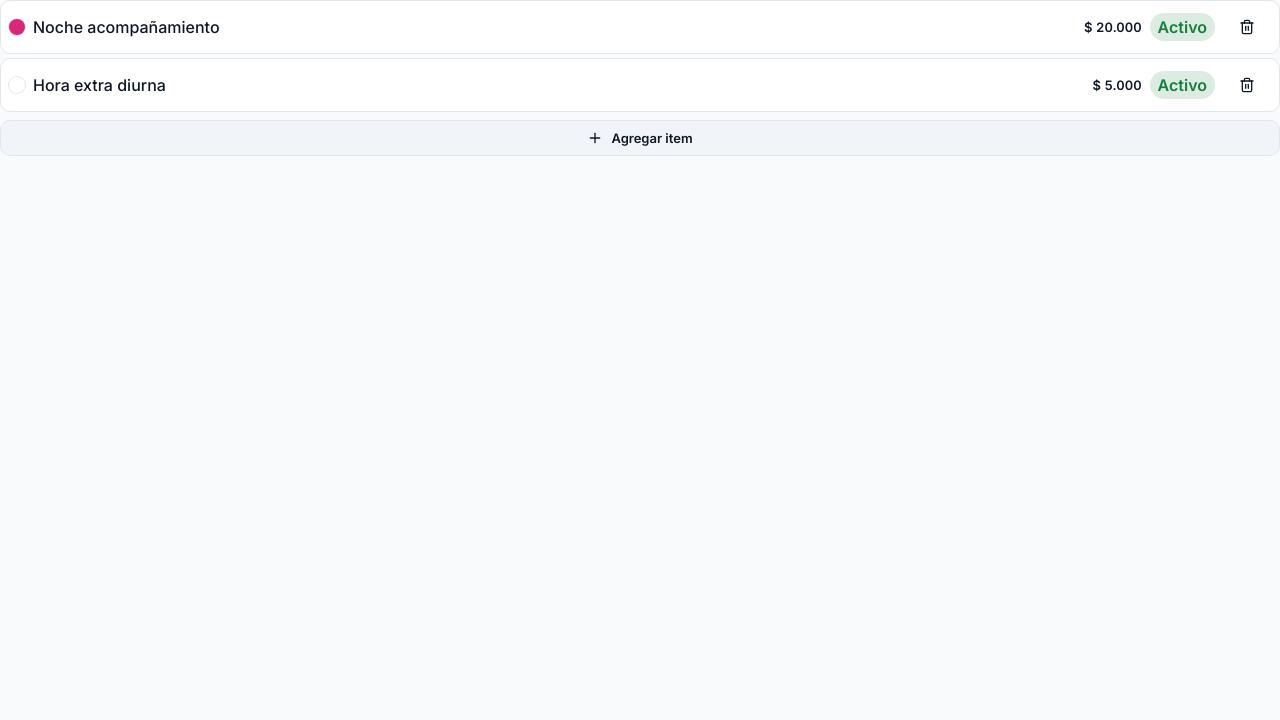
Scenario: ItemsAdicionalesSection (Spec items-adicionales) › AC-4/AC-7: crear un item invoca crearItemAdicional (POST) y refresca la lista
This screenshot has width=1280, height=720.
Expected: the button "Noche acompañamiento" is shown, [33, 15, 1076, 39]
Click the button "Agregar item": (640,138) [0, 120, 1279, 156]
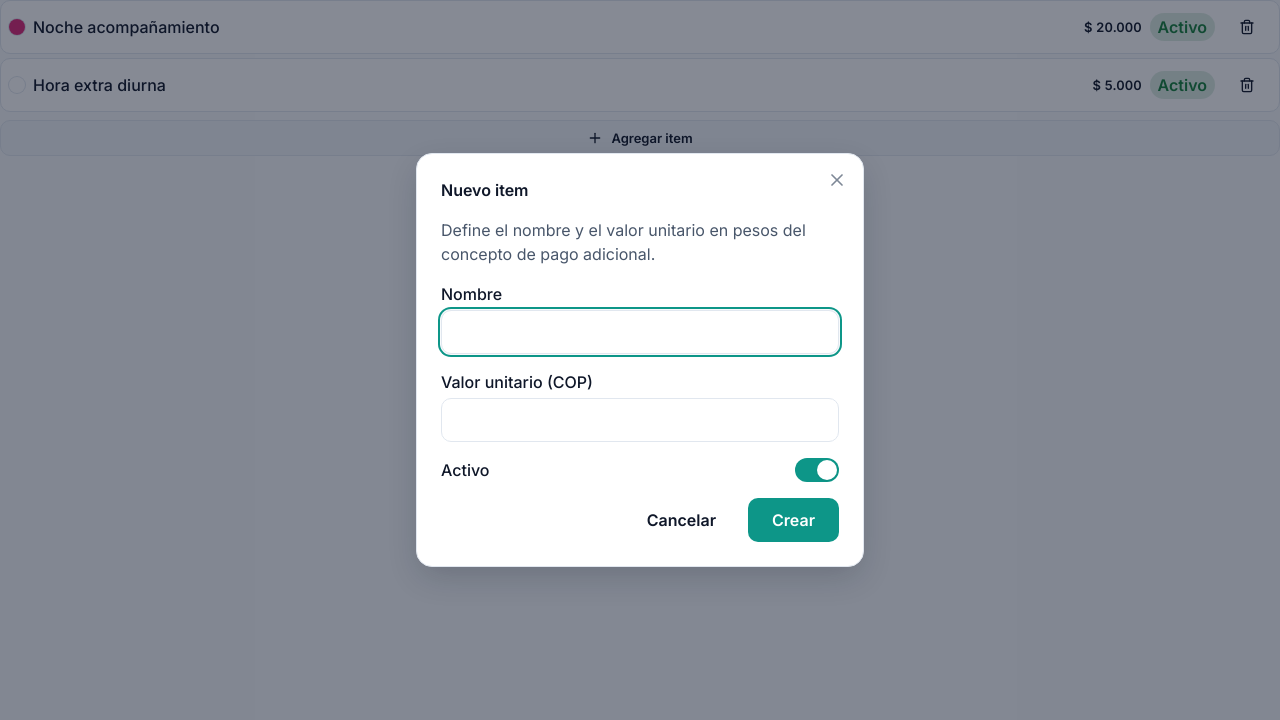
In the field labelled "Nombre": (640,332) [441, 310, 839, 354], type "Bono extra"
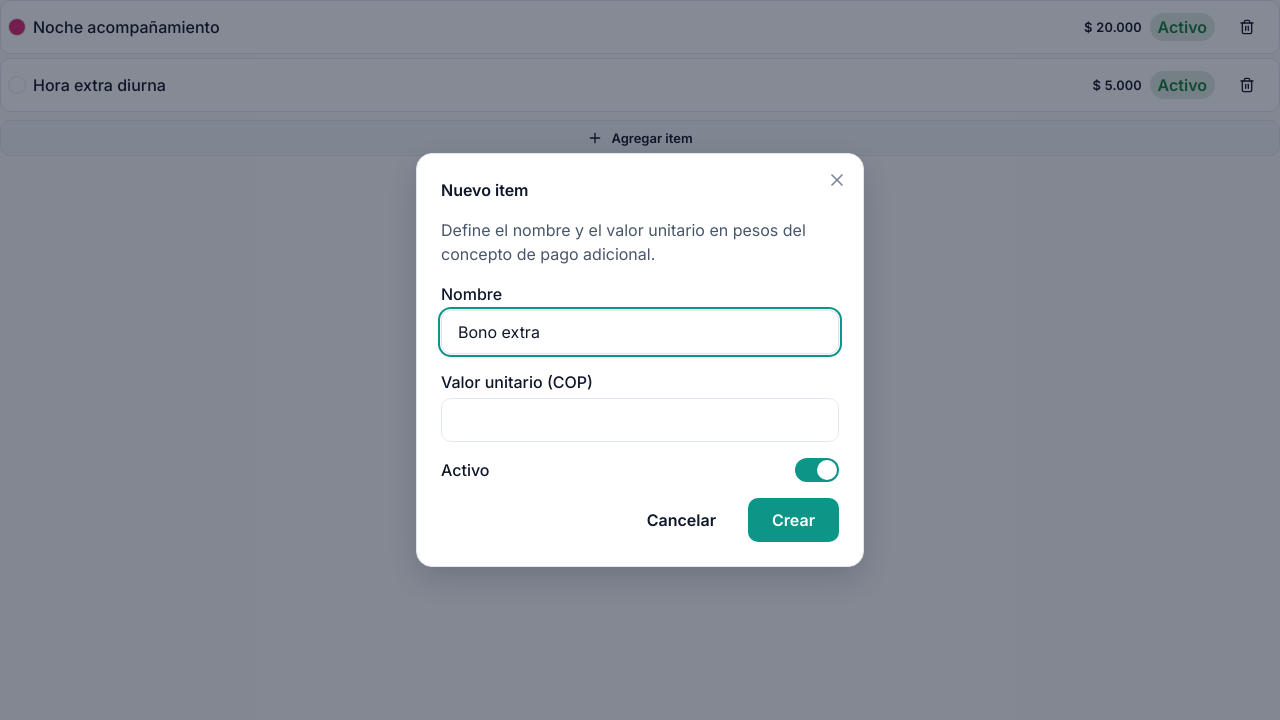
In the number field labelled "Valor unitario (COP)": (640,420) [441, 398, 839, 442], type "30000"
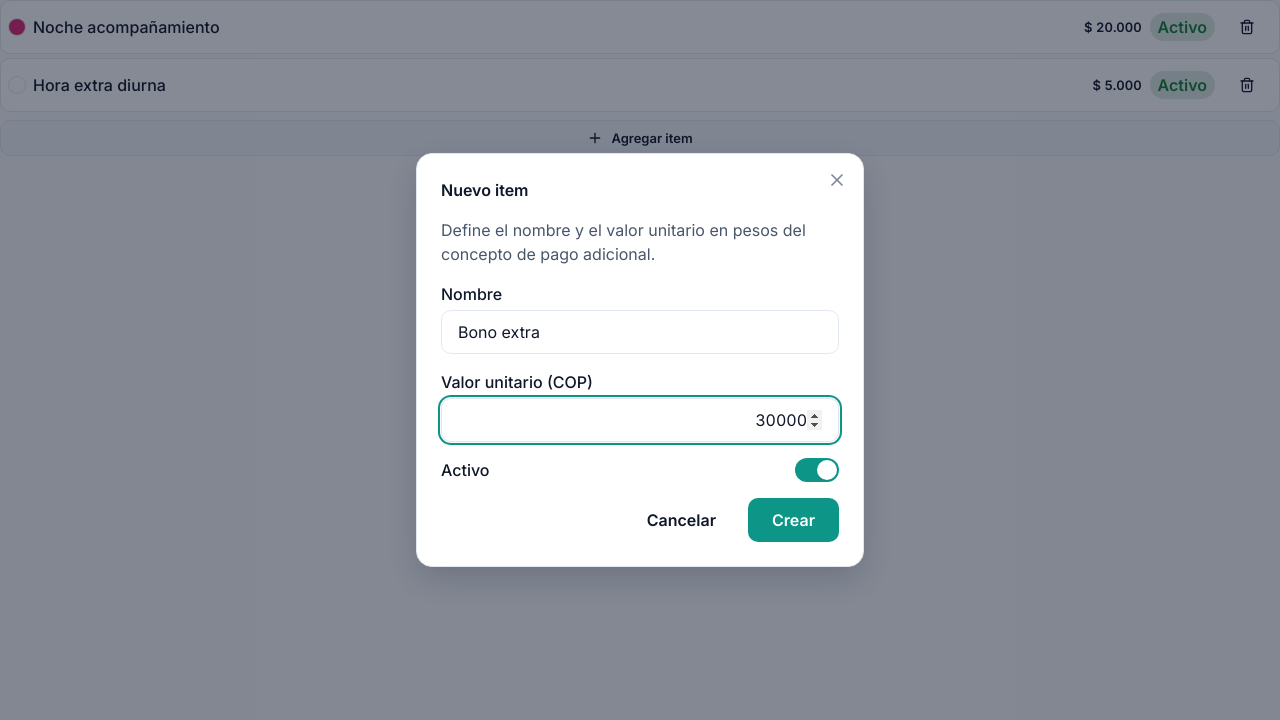
Click the button "Crear": (794,520) [748, 498, 839, 542]
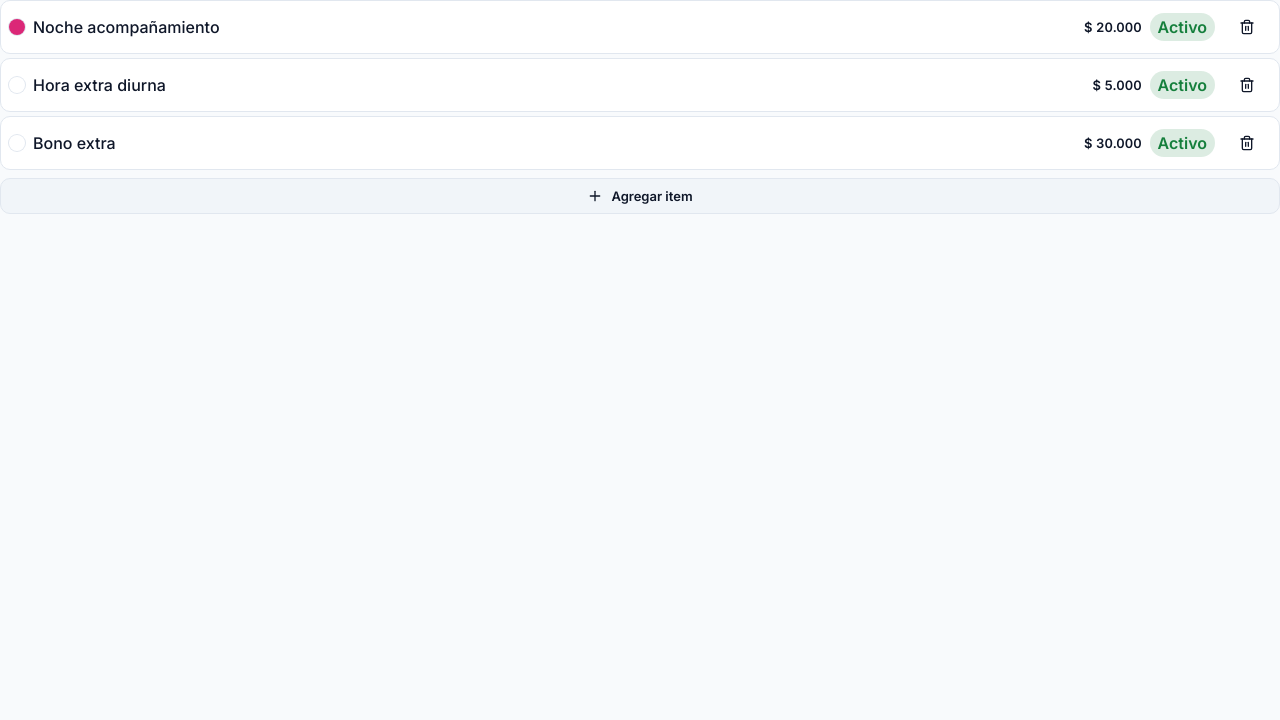
Result: the button "Bono extra" is shown at [33, 131, 1076, 155]
